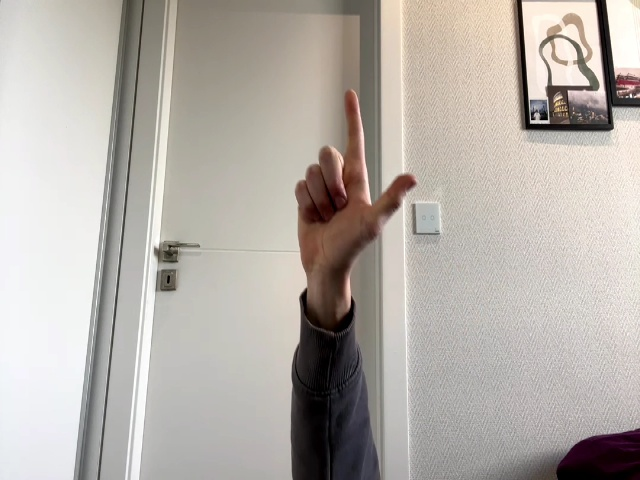L: (295, 89, 416, 286)
